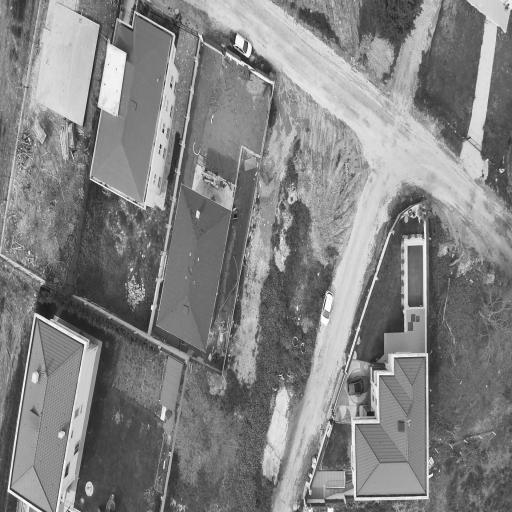car: (234, 34, 252, 57), (321, 291, 333, 325), (348, 377, 368, 395)
